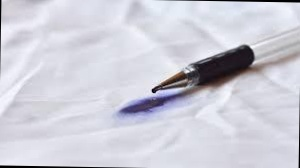ink: (119, 95, 174, 117)
